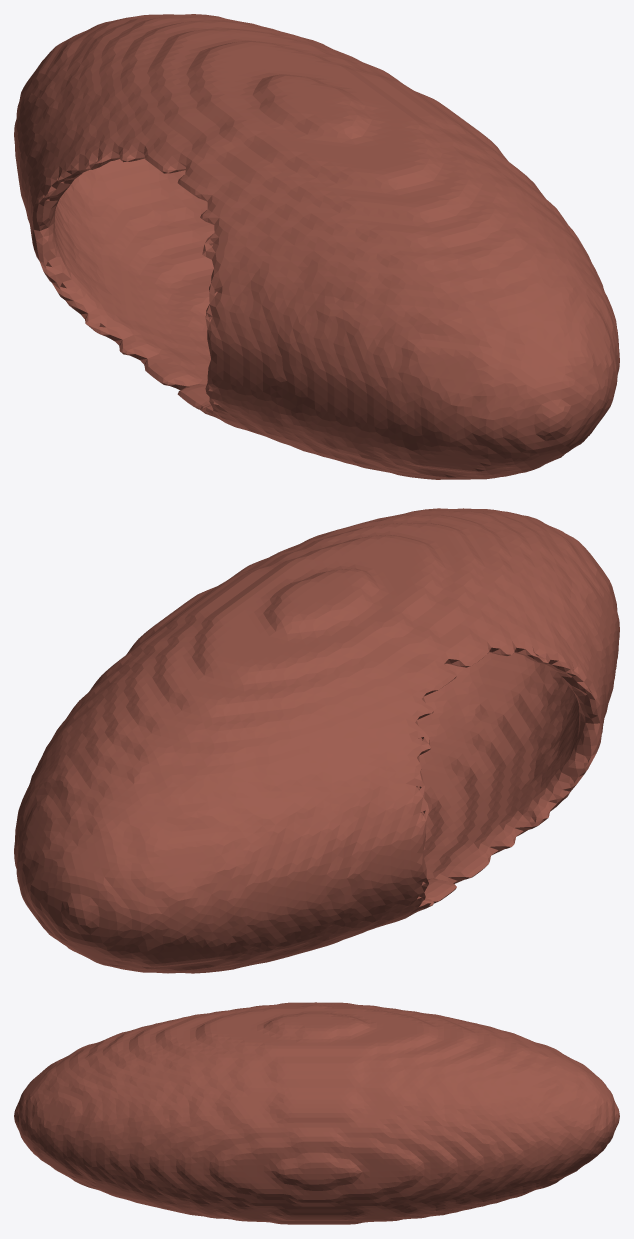
File: renal_capsule.glb
3 views of the same model, one above another, from view 1: azimuth 30°, elevation 25°; view 2: azimuth 150°, elevation 25°; view 3: azimuth 270°, elevation 25° (orthographic). The views are drawn at different scales.
Parts seen in each view (by area): view 1: geometry_0; view 2: geometry_0; view 3: geometry_0.
Boxes of the visible parts, bbox=[...] form: geometry_0: bbox=[14, 14, 619, 479]; geometry_0: bbox=[14, 508, 619, 973]; geometry_0: bbox=[14, 1002, 619, 1224].
Bounding box in the file's own units: 41.84 × 31.06 × 90.96.
